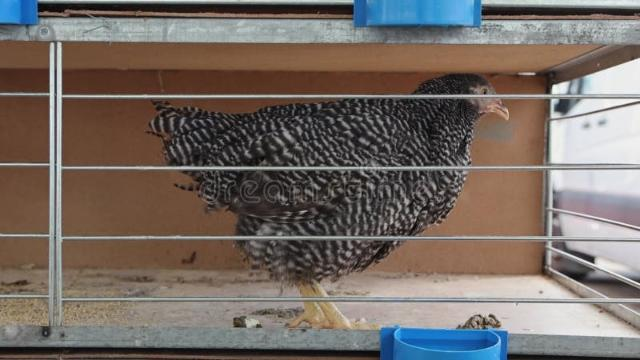Chicken: (147, 74, 509, 328)
